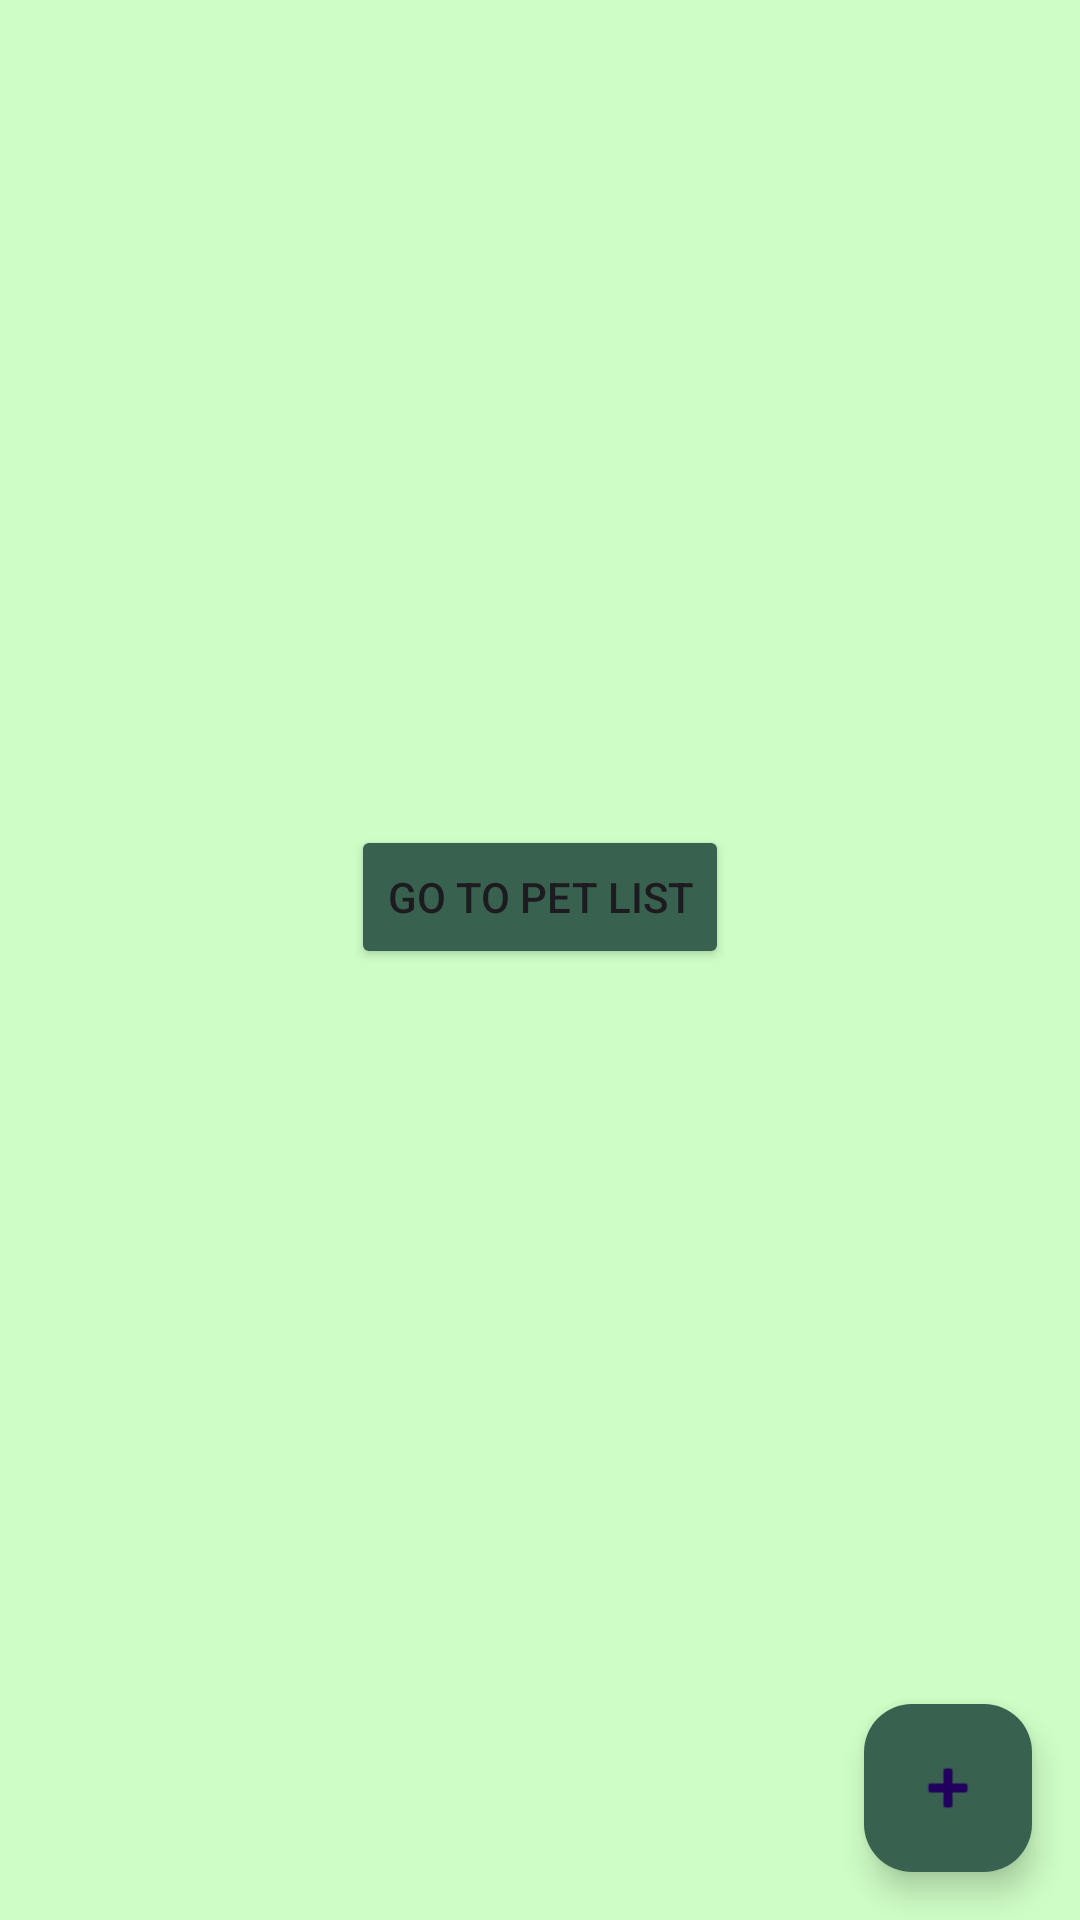

Icon click points for this 1080px×1920px phone screenshot, format [x,y]:
Add a new pet: [948,1788]
